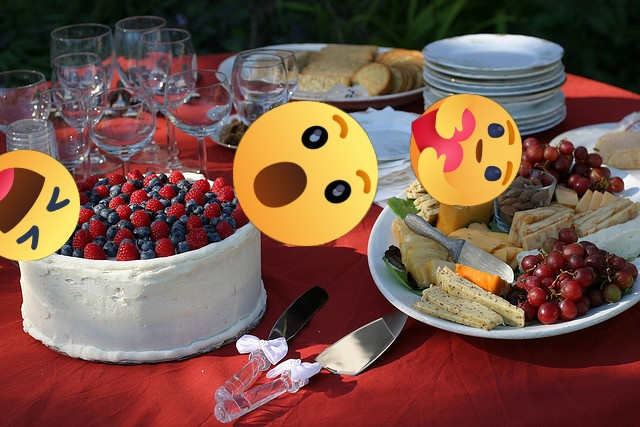care: (410, 94, 522, 206)
haha: (0, 150, 80, 261)
wow: (233, 101, 378, 246)
